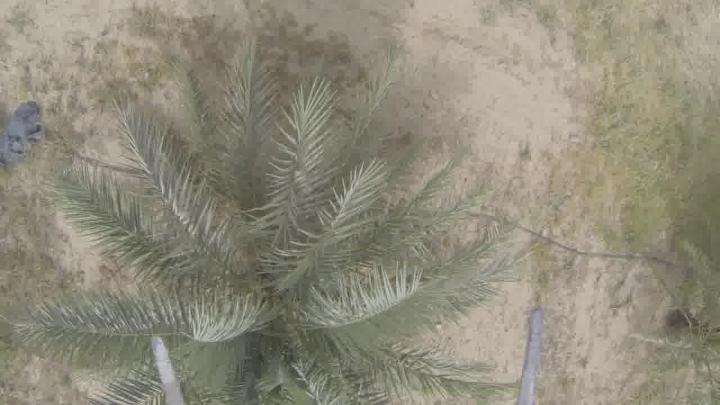Date-Palm-Crown: (138, 133, 400, 405), (668, 238, 720, 390)
